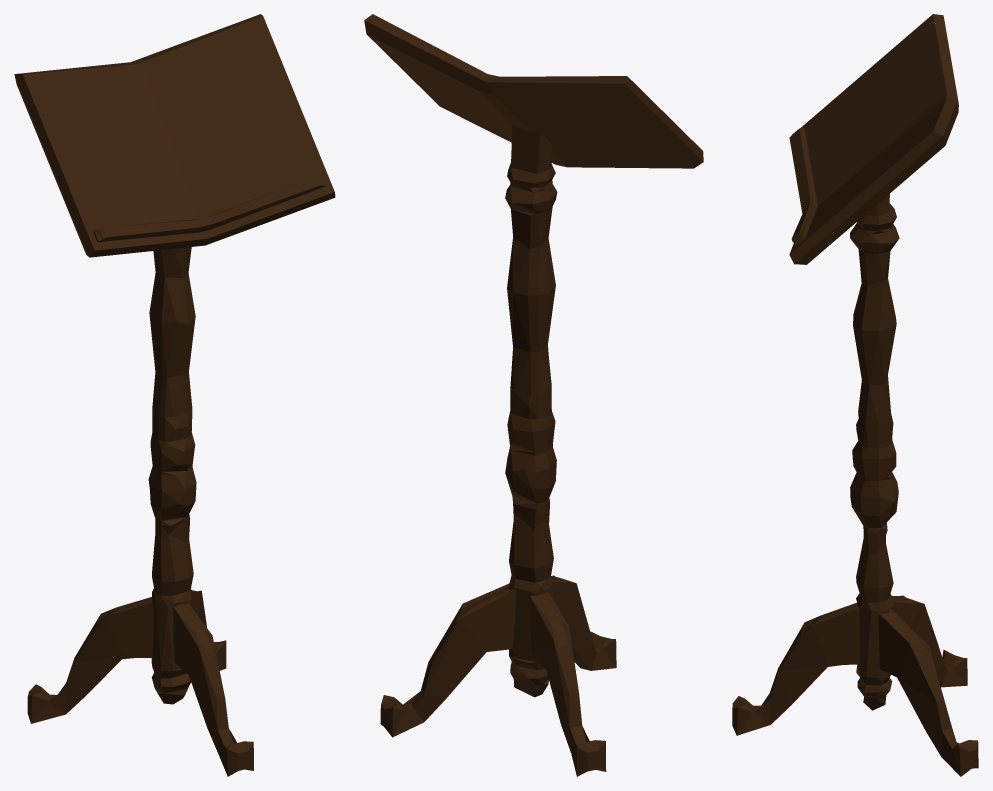
File: atril_libro.fbx
The picture shows the model from 3 angles, left to right: view 1: azimuth 30°, elevation 25°; view 2: azimuth 150°, elevation 25°; view 3: azimuth 270°, elevation 25°; orthographic projection. The views are drawn at different scales.
Parts seen in each view (by area): view 1: Cube.002, Cube, Cube.001; view 2: Cube, Cube.002, Cube.001; view 3: Cube.002, Cube, Cube.001.
Part boxes in pixels (bbox=[...]): Cube.002: bbox=[14, 14, 335, 257]; Cube: bbox=[148, 247, 196, 704]; Cube.001: bbox=[27, 590, 253, 776]; Cube: bbox=[505, 125, 557, 697]; Cube.002: bbox=[364, 14, 703, 168]; Cube.001: bbox=[380, 575, 616, 776]; Cube.002: bbox=[789, 14, 958, 264]; Cube: bbox=[850, 194, 899, 710]; Cube.001: bbox=[732, 595, 978, 776].
Bounding box in the file's own units: 199 × 507 × 172.
